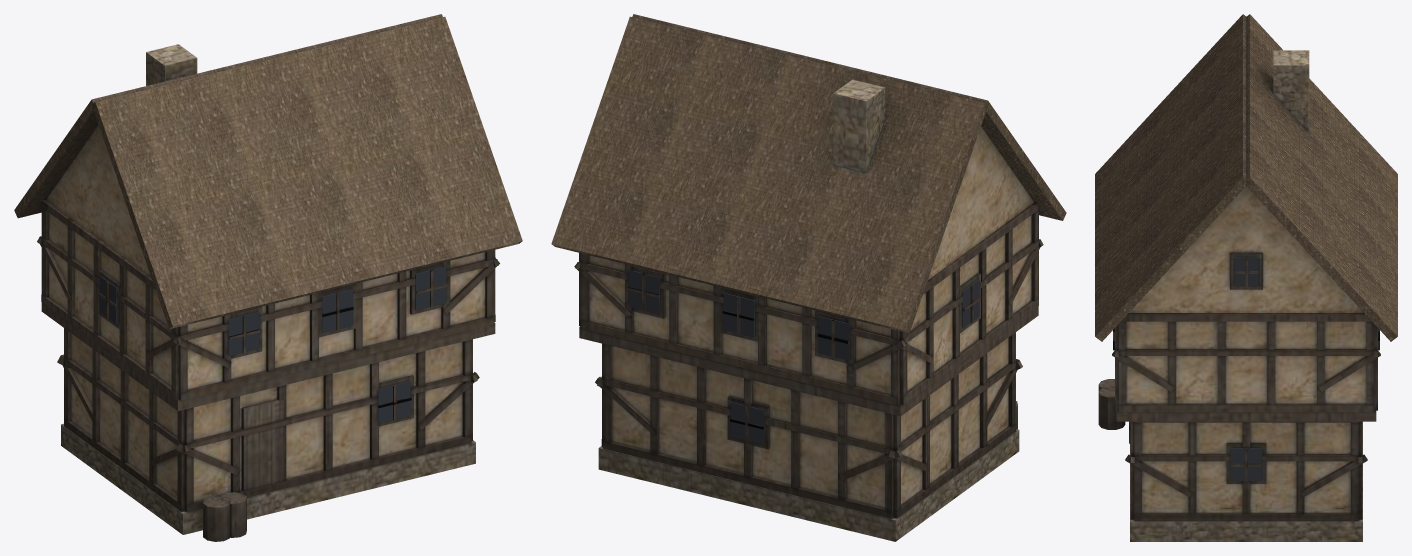
File: house_medieval.glb
3 renders of one model, left to right at view 1: azimuth 30°, elevation 25°; view 2: azimuth 150°, elevation 25°; view 3: azimuth 270°, elevation 25°, orthographic. The views are drawn at different scales.
Parts seen in each view (by area): view 1: house_medieval; view 2: house_medieval; view 3: house_medieval.
Boxes of the visible parts, x1,y1,x2,y2 form: house_medieval: [14, 14, 522, 541]; house_medieval: [551, 14, 1066, 541]; house_medieval: [1095, 14, 1397, 541].
Size of the model in its own units: 8.6 by 9.4 by 6.75.
Materials: 2 (1 with a texture image).
